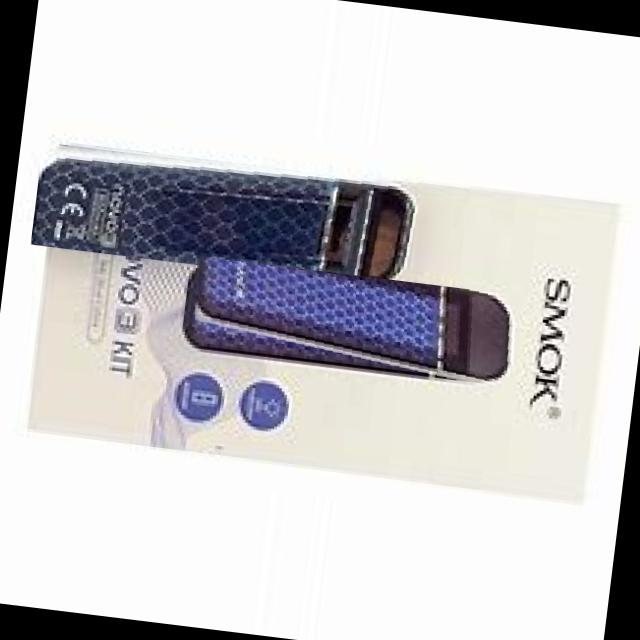Hazard: (28, 129, 430, 292), (181, 255, 520, 392)
